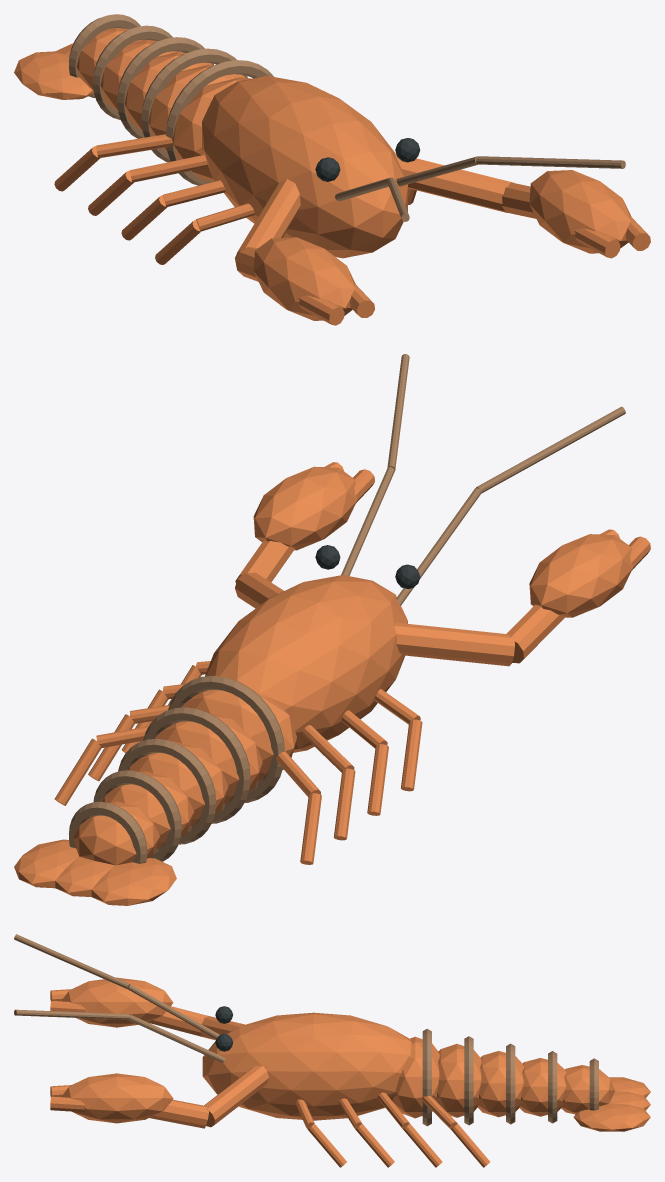
File: lobster.glb
3 renders of one model, top to bottom at view 1: azimuth 30°, elevation 25°; view 2: azimuth 150°, elevation 25°; view 3: azimuth 270°, elevation 25°, orthographic. The views are drawn at different scales.
Parts seen in each view (by area): view 1: orange, cedar, rubber; view 2: orange, cedar, rubber; view 3: orange, cedar, rubber.
Part boxes in pixels (x1=…): orange: x1=14, y1=28, x2=650, y2=325; cedar: x1=69, y1=14, x2=625, y2=221; rubber: x1=315, y1=138, x2=420, y2=181; orange: x1=14, y1=462, x2=650, y2=905; cedar: x1=69, y1=354, x2=625, y2=863; rubber: x1=315, y1=545, x2=420, y2=588; orange: x1=50, y1=977, x2=650, y2=1167; cedar: x1=14, y1=934, x2=598, y2=1126; rubber: x1=215, y1=1006, x2=232, y2=1051.
Size of the model in its own units: 0.48 by 0.282 by 1.07.
